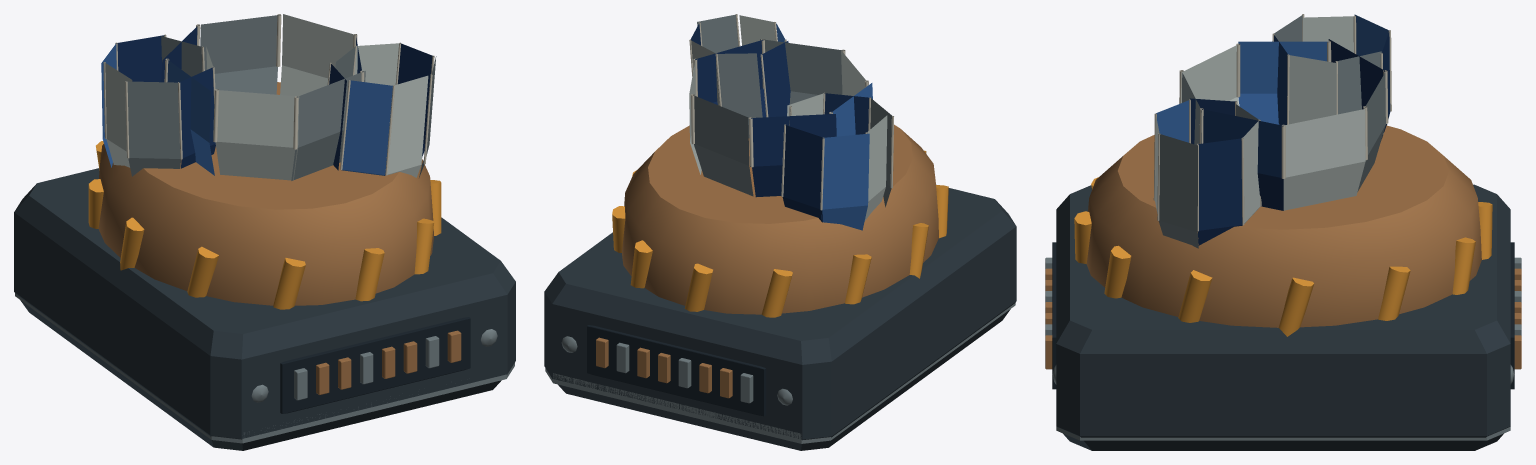
The model's file is wreck_cryo_0.glb.
3 views of the same model, side by side, from view 1: azimuth 30°, elevation 25°; view 2: azimuth 150°, elevation 25°; view 3: azimuth 270°, elevation 25° (orthographic). The views are drawn at different scales.
Parts seen in each view (by area): view 1: wreck_cryo_0; view 2: wreck_cryo_0; view 3: wreck_cryo_0.
Boxes of the visible parts, x1,y1,x2,y2 form: wreck_cryo_0: [14, 14, 515, 450]; wreck_cryo_0: [544, 14, 1016, 450]; wreck_cryo_0: [1045, 14, 1521, 450].
Size of the model in its own units: 3.2 by 2.89 by 4.17.
